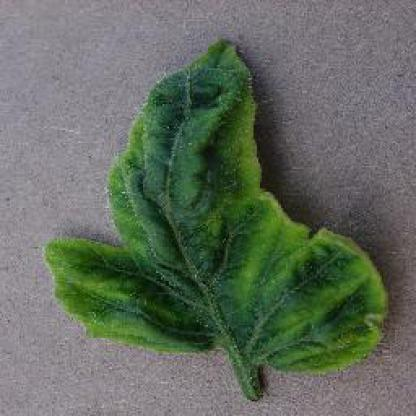good leaf: (76, 39, 352, 373)
